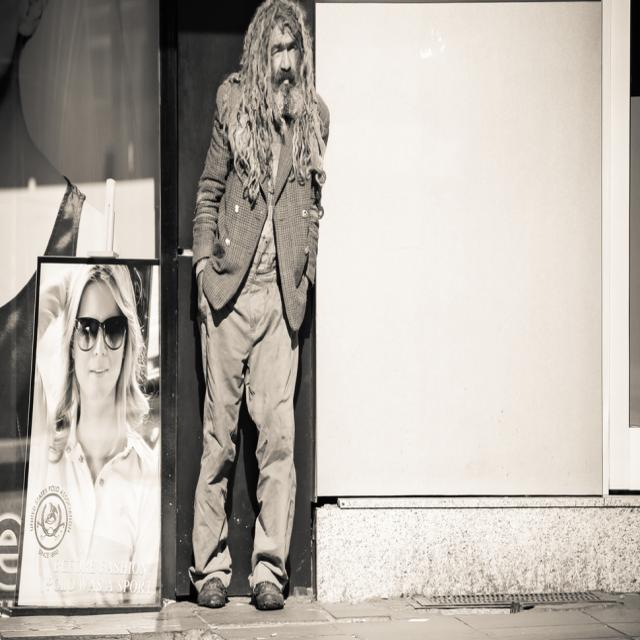Glasses: (47, 307, 138, 378)
